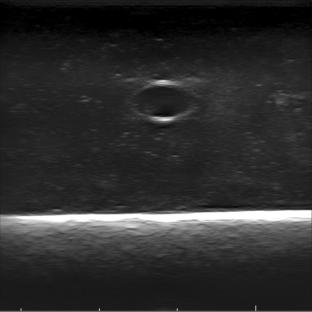vessel: (132, 79, 197, 122)
